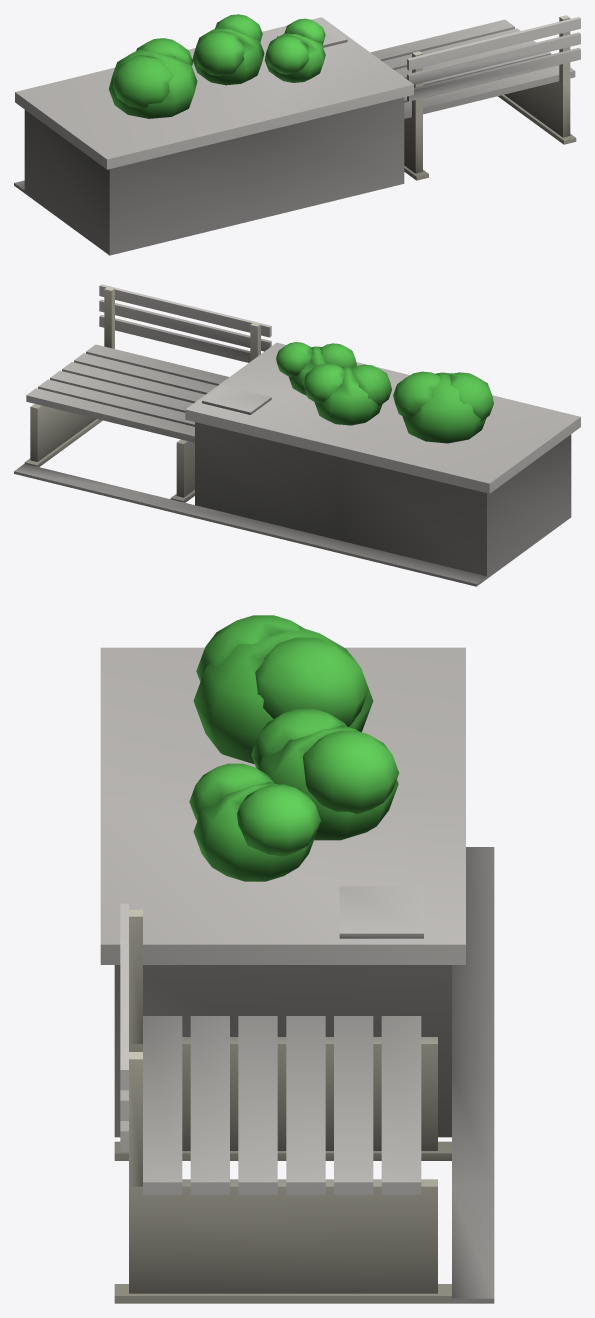
Rendered from bench_planter.glb.
The picture shows the model from 3 angles, top to bottom: view 1: azimuth 30°, elevation 25°; view 2: azimuth 150°, elevation 25°; view 3: azimuth 270°, elevation 25°; orthographic projection. The views are drawn at different scales.
Parts seen in each view (by area): view 1: bench_planter; view 2: bench_planter; view 3: bench_planter.
Boxes of the visible parts, bbox=[...] form: bench_planter: bbox=[14, 14, 580, 255]; bench_planter: bbox=[14, 284, 580, 586]; bench_planter: bbox=[100, 615, 494, 1303].
Size of the model in its own units: 3.9 by 1.2 by 1.4.
